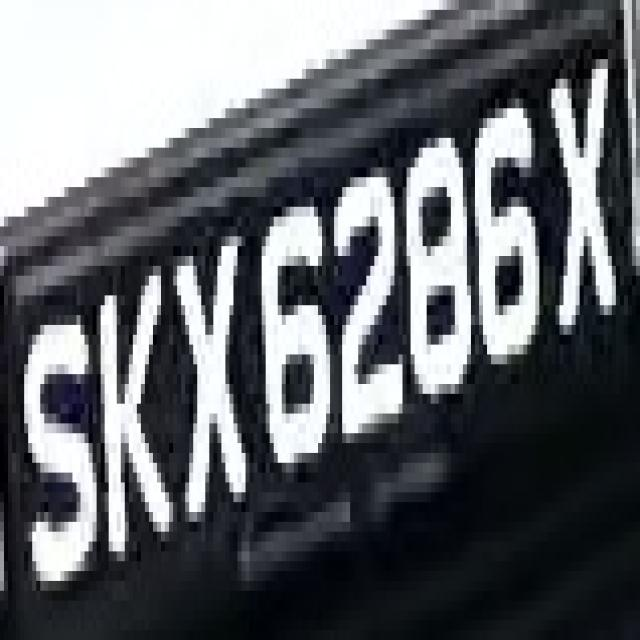2: (314, 158, 407, 462)
6: (242, 168, 342, 482), (475, 98, 547, 364)
8: (394, 108, 475, 394)
K: (93, 226, 169, 591)
S: (20, 286, 97, 590)
X: (535, 30, 624, 374), (161, 207, 246, 561)
